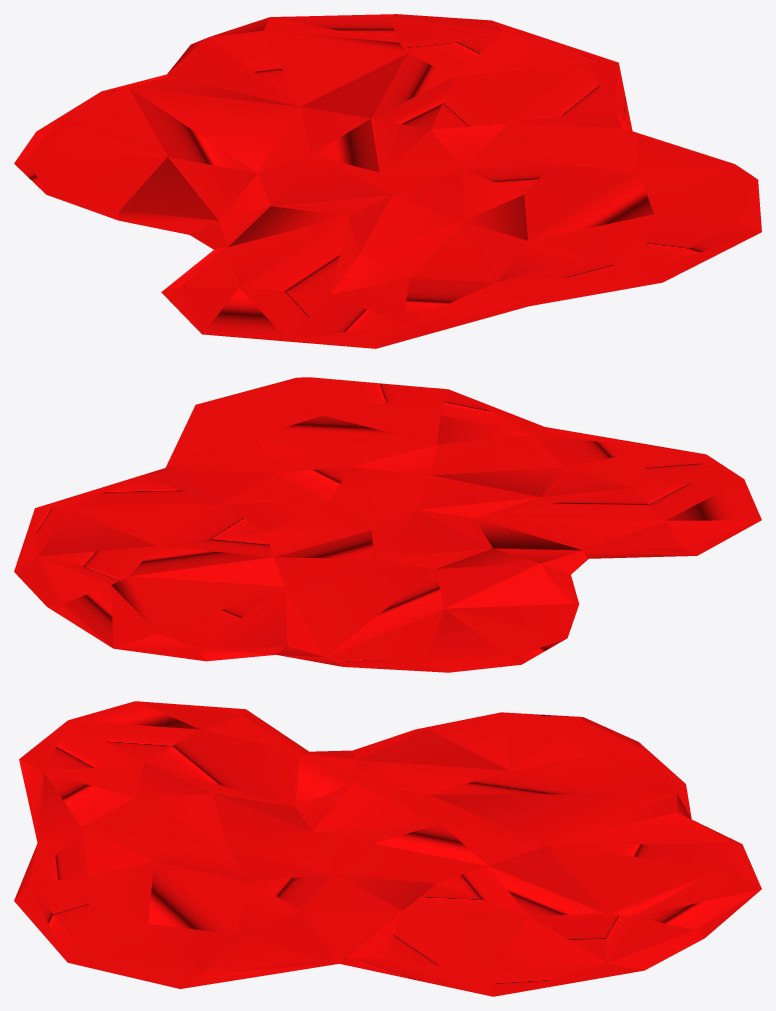
Rendered from stm_item_PaintPuddle.fbx.
3 renders of one model, top to bottom at view 1: azimuth 30°, elevation 25°; view 2: azimuth 150°, elevation 25°; view 3: azimuth 270°, elevation 25°, orthographic. The views are drawn at different scales.
Parts seen in each view (by area): view 1: Cube; view 2: Cube; view 3: Cube.
Boxes of the visible parts, x1,y1,x2,y2 form: Cube: (14,14,761,348); Cube: (14,377,761,672); Cube: (14,701,761,996).
Size of the model in its own units: 140 by 2.86 by 151.
